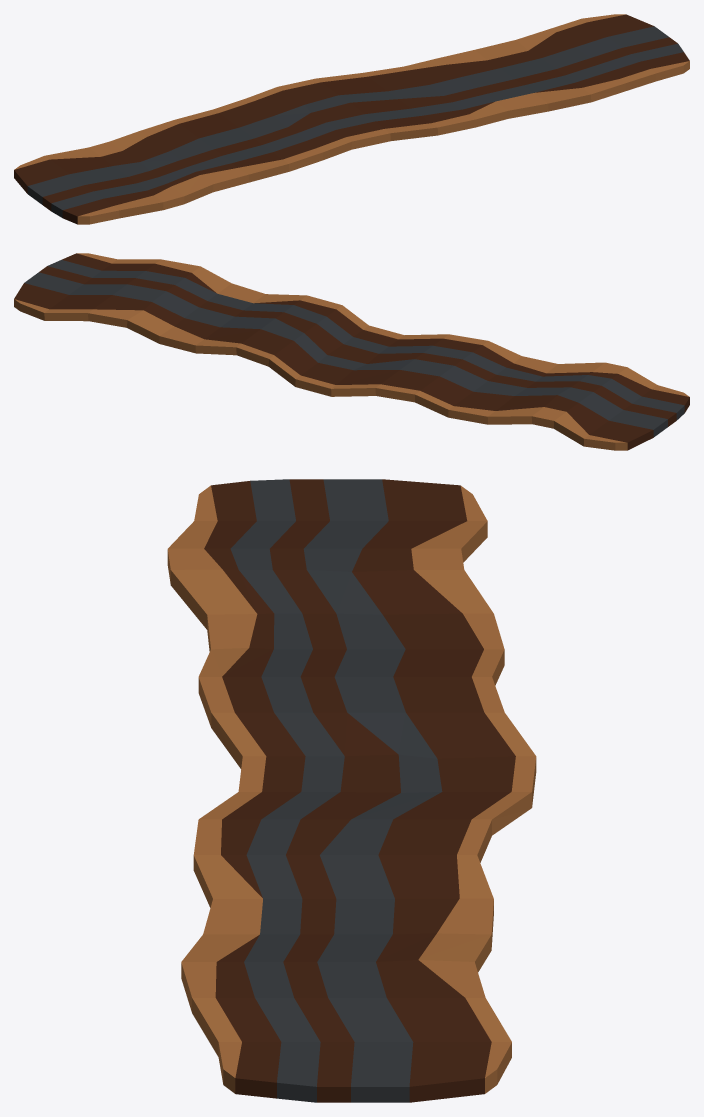
The model's file is Bacon_Burned.obj.
The picture shows the model from 3 angles, top to bottom: view 1: azimuth 30°, elevation 25°; view 2: azimuth 150°, elevation 25°; view 3: azimuth 270°, elevation 25°; orthographic projection. The views are drawn at different scales.
Visible parts, largest first — view 1: Bacon_Burned_DarkBrown, Bacon_Burned_DarkGrey, Bacon_Burned_LightBrown; view 2: Bacon_Burned_DarkBrown, Bacon_Burned_DarkGrey, Bacon_Burned_LightBrown; view 3: Bacon_Burned_DarkBrown, Bacon_Burned_DarkGrey, Bacon_Burned_LightBrown.
Boxes of the visible parts, x1,y1,x2,y2 form: Bacon_Burned_DarkBrown: [14, 14, 689, 224]; Bacon_Burned_DarkGrey: [27, 26, 683, 217]; Bacon_Burned_LightBrown: [14, 14, 689, 224]; Bacon_Burned_DarkBrown: [14, 253, 689, 450]; Bacon_Burned_DarkGrey: [24, 260, 684, 437]; Bacon_Burned_LightBrown: [14, 253, 689, 450]; Bacon_Burned_DarkBrown: [204, 479, 515, 1102]; Bacon_Burned_DarkGrey: [230, 479, 442, 1102]; Bacon_Burned_LightBrown: [167, 485, 536, 1093].
Size of the model in its own units: 1.16 by 0.0213 by 0.2968.
